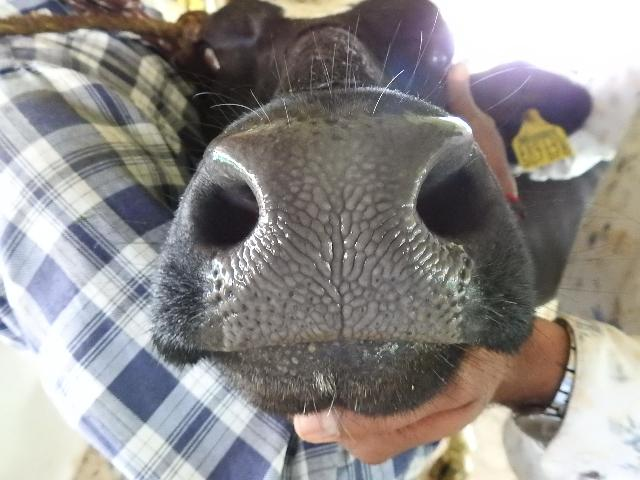Muzzle: (226, 138, 444, 336)
